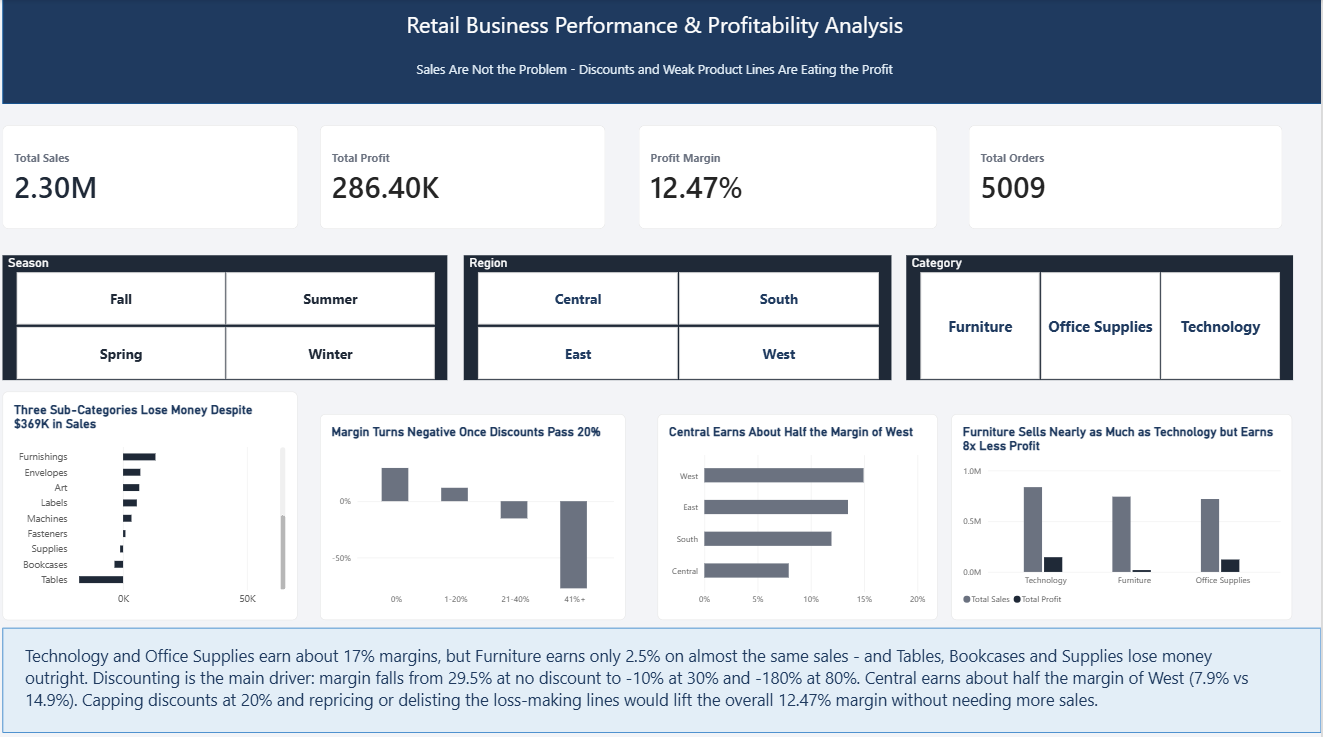

The page's visual inventory and layout, read from the dashboard file:
{"tool":"powerbi","page":{"name":"Page 1","canvas":[1920,1080],"ordinal":0},"visuals":[{"type":"shape","box":[10.9,910.3,1909.2,152],"z":0},{"type":"shape","box":[10.3,0,1910.1,152.3],"z":1000},{"type":"textbox","box":[0,14.4,1910.1,61.7],"z":2000},{"type":"textbox","box":[0,88.5,1910.1,63.8],"z":3000},{"type":"cardVisual","fields":{"Data":["Sum(superstore_clean.Sales)"]},"box":[10.3,183.2,428.1,150.3],"z":4000},{"type":"cardVisual","fields":{"Data":["Sum(superstore_clean.Profit)"]},"box":[471.4,183.2,413.7,150.3],"z":5000},{"type":"cardVisual","fields":{"Data":["superstore_clean.Profit Margin"]},"box":[932.4,183.2,432.2,150.3],"z":6000},{"type":"cardVisual","fields":{"Data":["superstore_clean.Total Orders"]},"box":[1410,183.2,454.9,150.3],"z":7000},{"type":"slicer","fields":{"Values":["superstore_clean.Season"]},"box":[10.3,370.5,644.3,181.1],"z":8000},{"type":"slicer","fields":{"Values":["superstore_clean.Region"]},"box":[679.2,370.5,619.6,181.1],"z":9000},{"type":"slicer","fields":{"Values":["superstore_clean.Category"]},"box":[1319.4,370.5,559.9,181.1],"z":10000},{"type":"clusteredBarChart","title":"Three Sub-Categories Lose Money Despite $369K in Sales","fields":{"Category":["superstore_clean.Sub-Category"],"Y":["superstore_clean.Total Profit"]},"box":[10.9,568.2,427.1,331.2],"z":11000},{"type":"clusteredColumnChart","title":"Furniture Sells Nearly as Much as Technology but Earns 8x Less Profit","fields":{"Category":["superstore_clean.Category"],"Y":["superstore_clean.Total Sales","superstore_clean.Total Profit"]},"box":[1385.3,601,494,298.5],"z":12000},{"type":"clusteredColumnChart","title":"Margin Turns Negative Once Discounts Pass 20%","fields":{"Category":["superstore_clean.Discount Band"],"Y":["superstore_clean.Profit Margin"]},"box":[471.4,601,442.5,298.5],"z":13000},{"type":"clusteredBarChart","title":"Central Earns About Half the Margin of West","fields":{"Category":["superstore_clean.Region"],"Y":["superstore_clean.Profit Margin"]},"box":[959.2,601,405.5,298.5],"z":14000},{"type":"textbox","box":[43.2,934.5,1803.1,127.6],"z":15000}]}

Visuals, with their boxes in screenshot pixels (x1, y1, x2, y2), scaled from the page's 1920x1080 canvas onto the 1323x737 screenshot:
shape: rect(8, 621, 1322, 725)
shape: rect(7, 0, 1322, 104)
textbox: rect(0, 10, 1316, 52)
textbox: rect(0, 60, 1316, 104)
cardVisual - Sum(superstore_clean.Sales): rect(7, 125, 302, 228)
cardVisual - Sum(superstore_clean.Profit): rect(325, 125, 610, 228)
cardVisual - superstore_clean.Profit Margin: rect(642, 125, 940, 228)
cardVisual - superstore_clean.Total Orders: rect(972, 125, 1285, 228)
slicer - superstore_clean.Season: rect(7, 253, 451, 376)
slicer - superstore_clean.Region: rect(468, 253, 895, 376)
slicer - superstore_clean.Category: rect(909, 253, 1295, 376)
"Three Sub-Categories Lose Money Despite $369K in Sales" clusteredBarChart: rect(8, 388, 302, 614)
"Furniture Sells Nearly as Much as Technology but Earns 8x Less Profit" clusteredColumnChart: rect(955, 410, 1295, 614)
"Margin Turns Negative Once Discounts Pass 20%" clusteredColumnChart: rect(325, 410, 630, 614)
"Central Earns About Half the Margin of West" clusteredBarChart: rect(661, 410, 940, 614)
textbox: rect(30, 638, 1272, 725)
